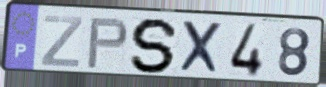4: (228, 22, 265, 80)
8: (276, 26, 313, 78)
P: (84, 17, 130, 71)
S: (129, 16, 182, 75)
X: (177, 20, 224, 77)
Z: (39, 14, 84, 69)
